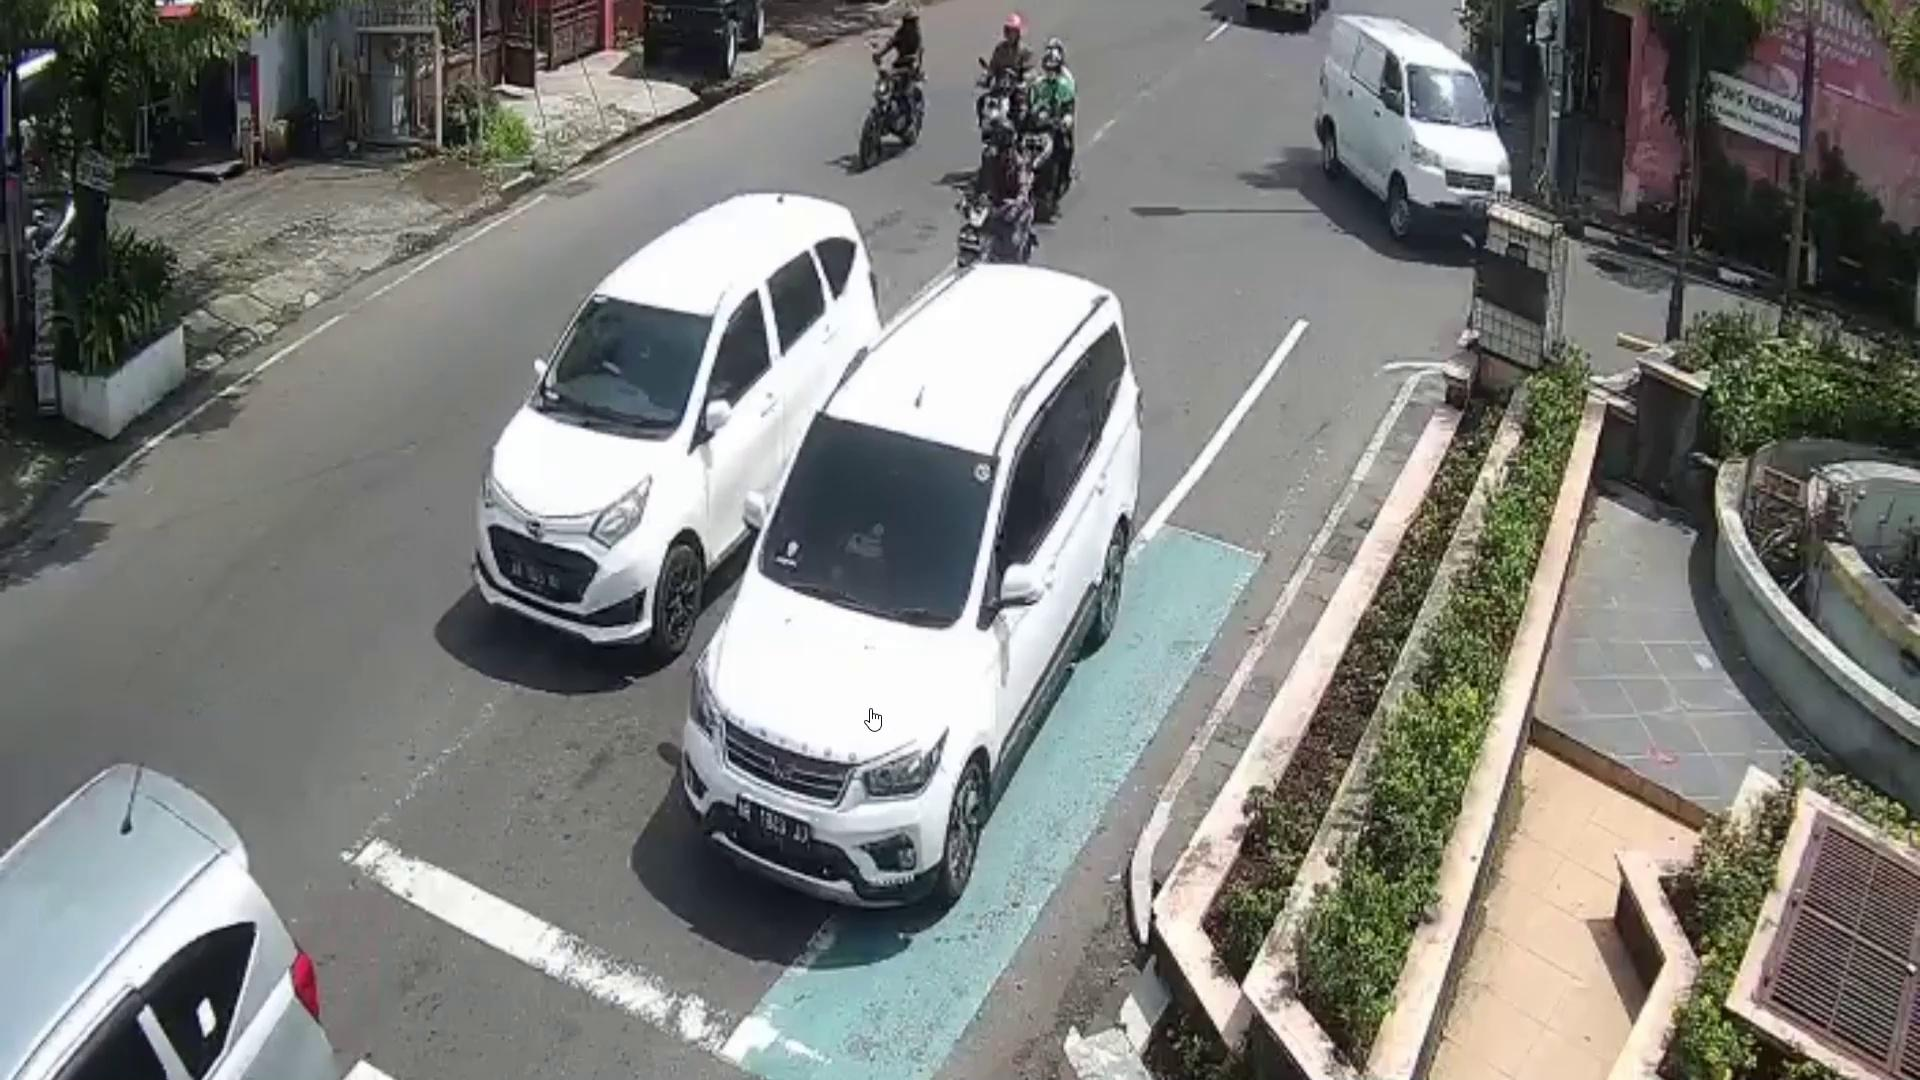car: (684, 261, 1145, 910), (481, 191, 890, 663), (0, 757, 336, 1080), (1311, 12, 1515, 251)
motorbike: (856, 62, 926, 173), (1022, 103, 1080, 225), (952, 194, 1035, 270), (984, 67, 1035, 148)
